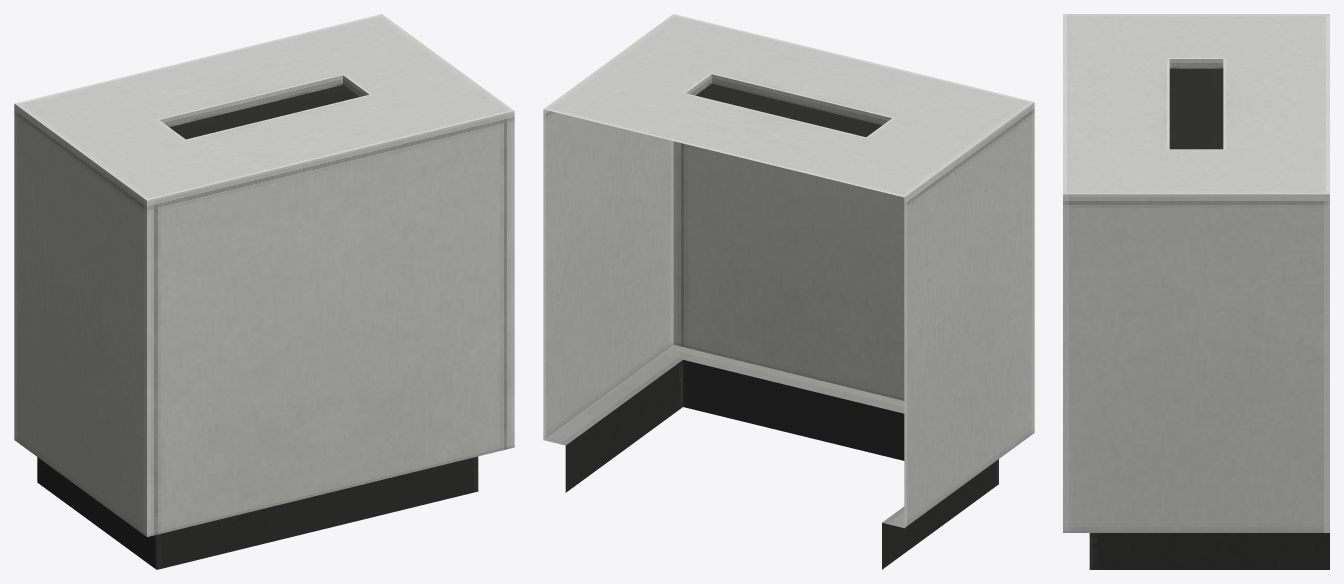
File: HallTrash.glb
3 views of the same model, side by side, from view 1: azimuth 30°, elevation 25°; view 2: azimuth 150°, elevation 25°; view 3: azimuth 270°, elevation 25° (orthographic). The views are drawn at different scales.
Visible parts, largest first — view 1: hall trash.001; view 2: hall trash.001; view 3: hall trash.001.
Boxes of the visible parts, box(x1,y1,x2,y2) form: hall trash.001: box(14, 14, 514, 569); hall trash.001: box(543, 14, 1034, 569); hall trash.001: box(1063, 14, 1329, 569).
Size of the model in its own units: 0.8 by 0.8 by 0.5.
2 materials, 2 textured.
